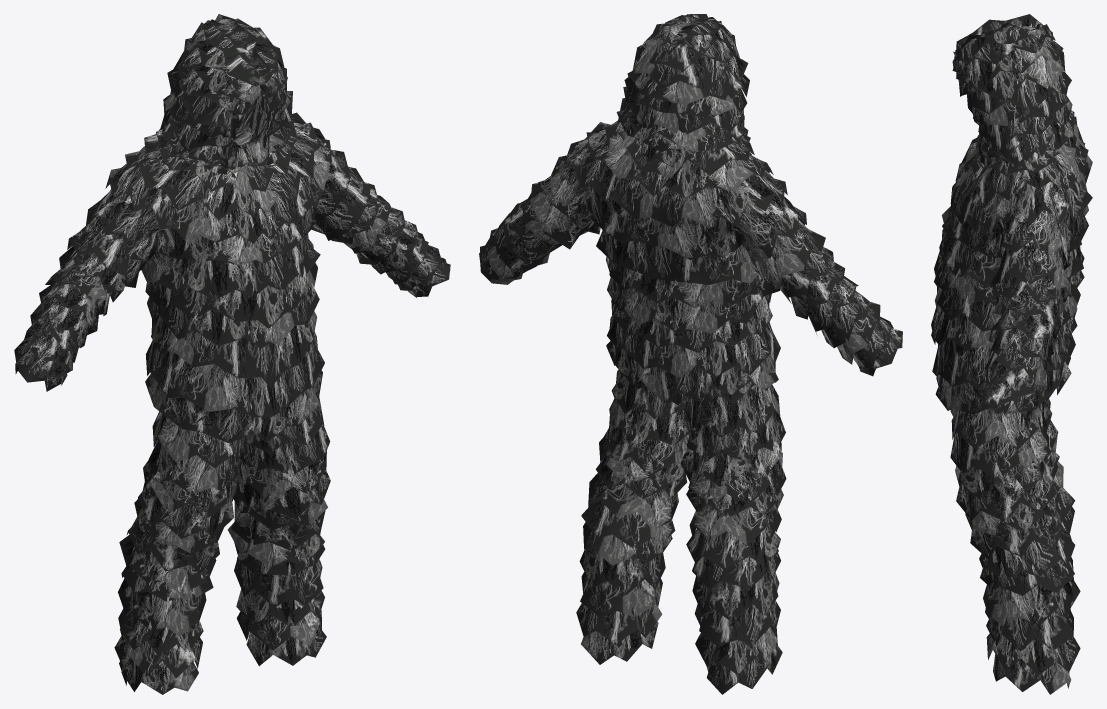
Rendered from SurvivorMale_Chest_GhillieSuit_LOD0.glb.
3 views of the same model, side by side, from view 1: azimuth 30°, elevation 25°; view 2: azimuth 150°, elevation 25°; view 3: azimuth 270°, elevation 25° (orthographic). The views are drawn at different scales.
Visible parts, largest first — view 1: Hoodie; view 2: Hoodie; view 3: Hoodie.
Boxes of the visible parts, box(x1,y1,x2,y2) form: Hoodie: box(14, 14, 450, 694); Hoodie: box(479, 14, 902, 694); Hoodie: box(931, 14, 1092, 694).
Size of the model in its own units: 1.26 by 1.85 by 0.4255.
1 material, 1 textured.
